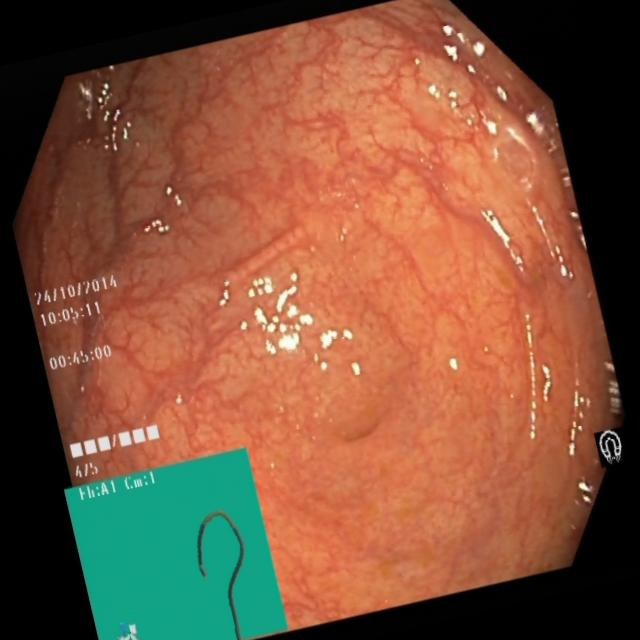normal-cecum: (486, 177, 590, 320), (44, 53, 154, 166)
